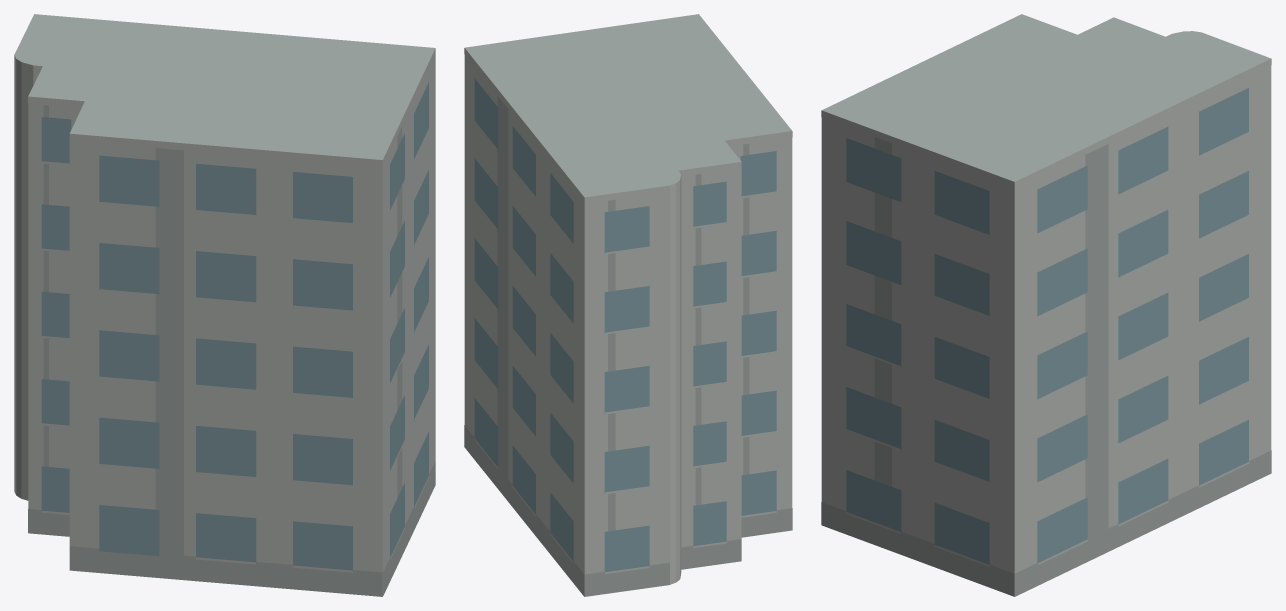
Rendered from survey-upis-32954403.glb.
3 views of the same model, side by side, from view 1: azimuth 30°, elevation 25°; view 2: azimuth 150°, elevation 25°; view 3: azimuth 270°, elevation 25° (orthographic). The views are drawn at different scales.
Parts seen in each view (by area): view 1: survey-upis-32954403.tmp; view 2: survey-upis-32954403.tmp; view 3: survey-upis-32954403.tmp.
Part boxes in pixels (x1,y1,x2,y2): survey-upis-32954403.tmp: (14, 14, 435, 596); survey-upis-32954403.tmp: (464, 14, 792, 596); survey-upis-32954403.tmp: (821, 14, 1271, 596).
Size of the model in its own units: 12.86 by 14.8 by 14.55.
